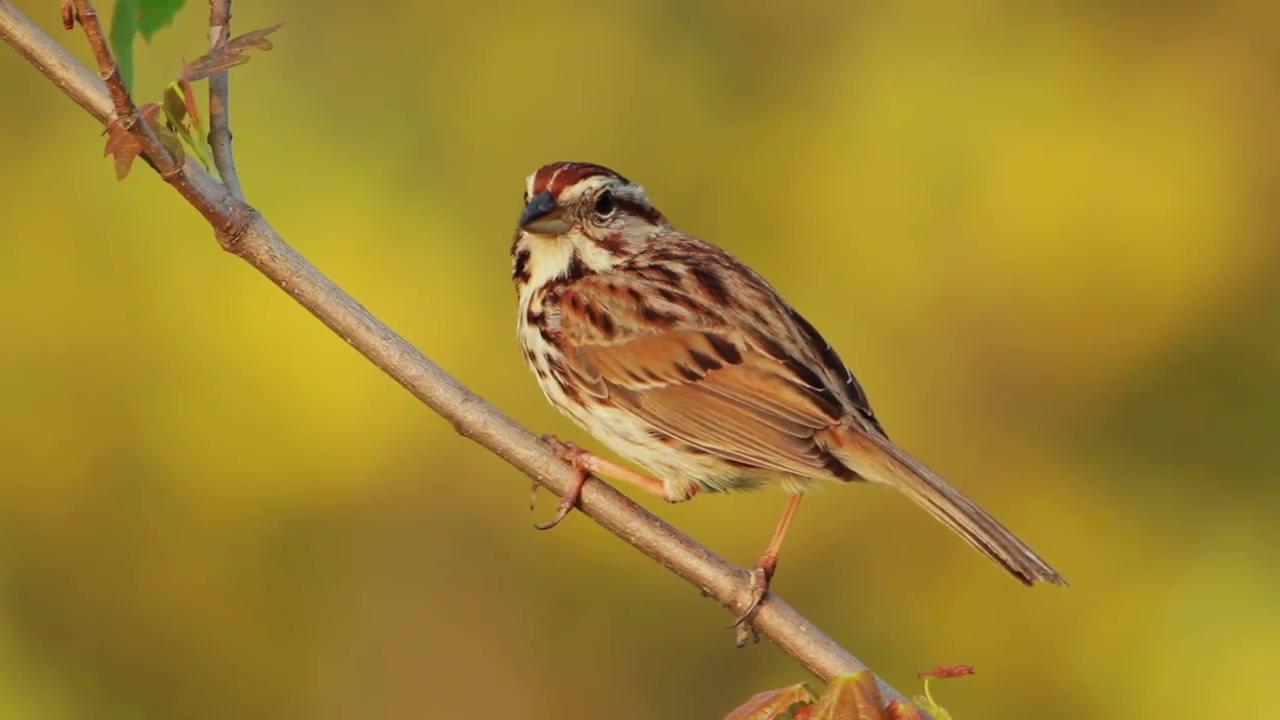bird: (510, 159, 1070, 651)
